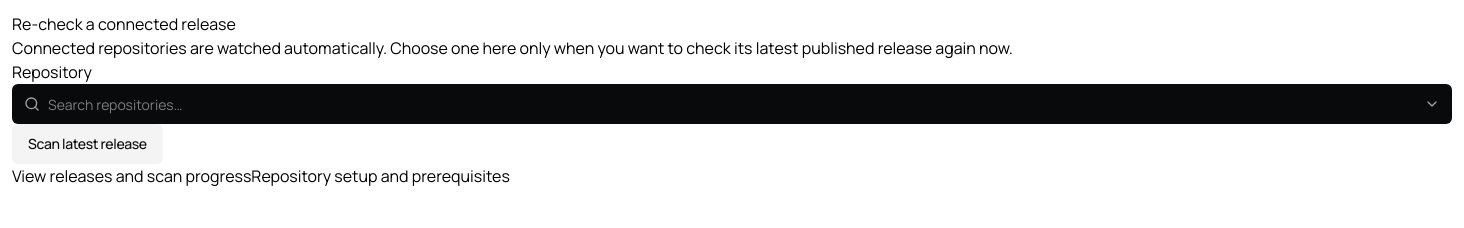
Test: distinguishes rejected submission from uncertain acceptance (409)
This screenshot has width=1464, height=228.
Click the dropdown named "Repository". click: {"x": 732, "y": 104}
box: [12,84,1452,124]
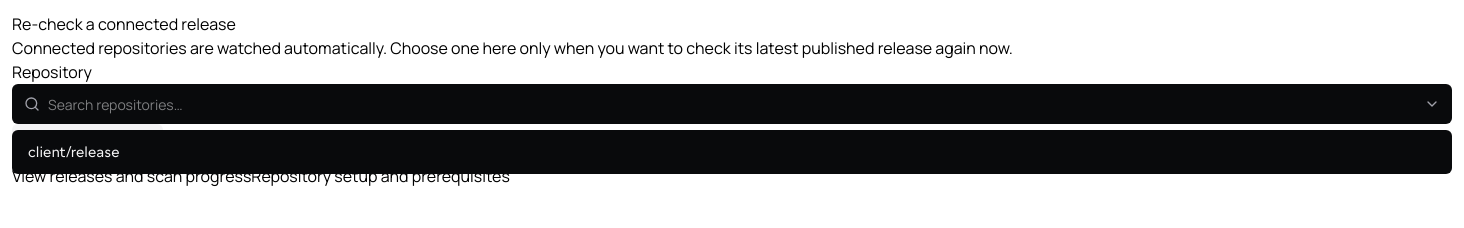
Click the option "client/release". click: {"x": 74, "y": 152}
box: [28,144,120,160]
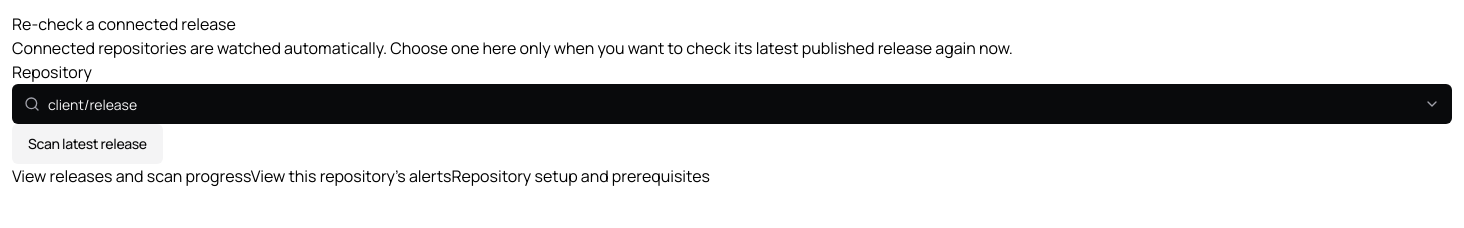
Click the button "Scan latest release". click: {"x": 87, "y": 144}
box: [12,124,163,164]
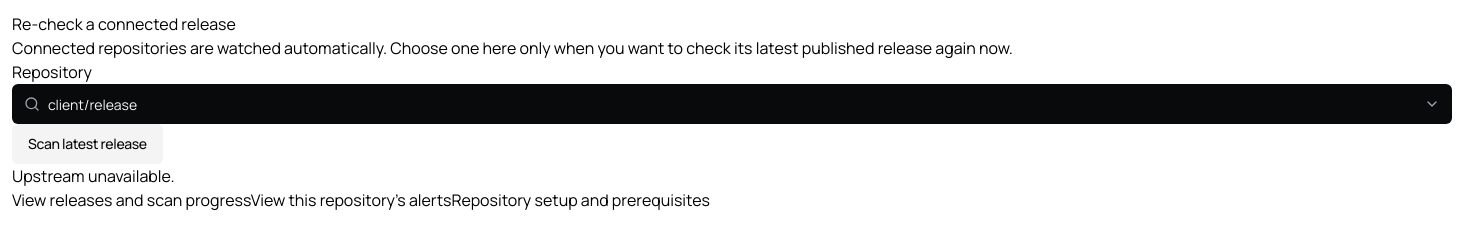
Check: the button "Scan latest release" is enabled, box [12,124,163,164]
Check: the message "Upstream unavailable." is shown, box [12,165,175,187]
